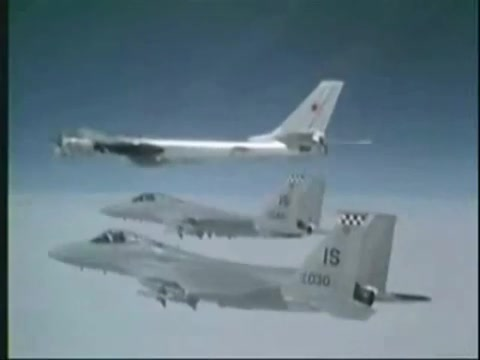aeroplane: (49, 210, 432, 321)
